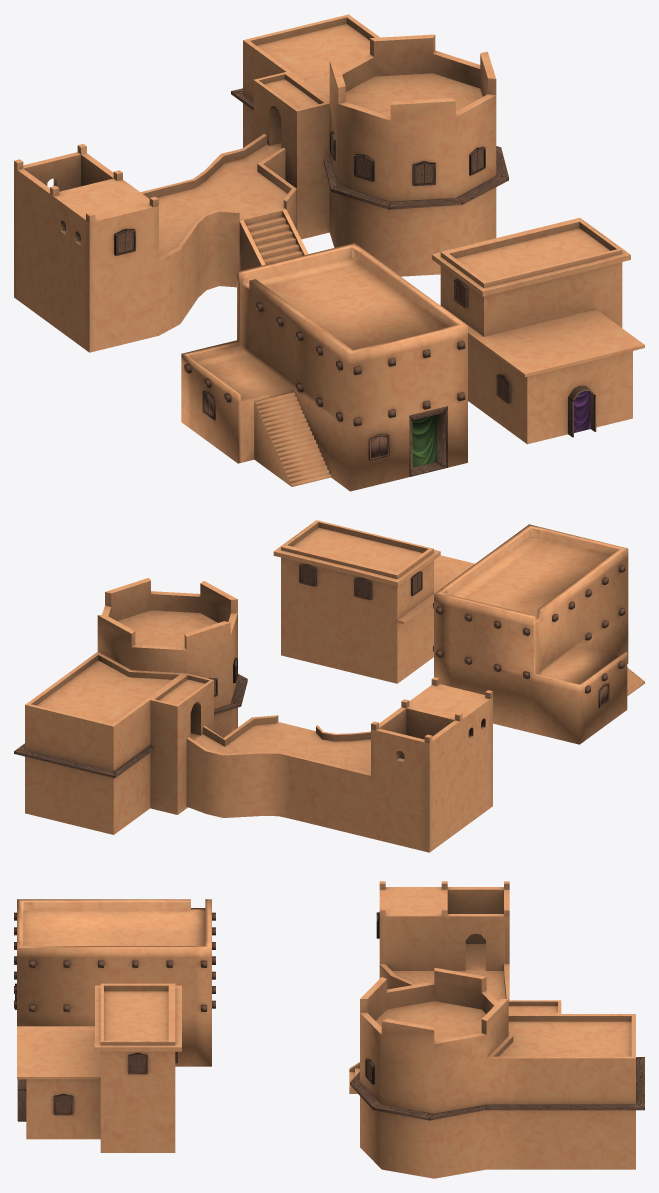
File: desert_village.glb
The picture shows the model from 3 angles, top to bottom: view 1: azimuth 30°, elevation 25°; view 2: azimuth 150°, elevation 25°; view 3: azimuth 270°, elevation 25°; orthographic projection. The views are drawn at different scales.
Visible parts, largest first — view 1: casa02_2, casa01_5, casa03_0; view 2: casa02_2, casa01_5, casa03_0; view 3: casa02_2, casa03_0, casa01_5.
Boxes of the visible parts, x1,y1,x2,y2 form: casa02_2: [14, 14, 508, 352]; casa01_5: [181, 243, 467, 491]; casa03_0: [432, 217, 644, 444]; casa02_2: [14, 578, 492, 852]; casa01_5: [433, 524, 644, 744]; casa03_0: [273, 520, 474, 683]; casa02_2: [349, 881, 644, 1178]; casa03_0: [17, 983, 181, 1152]; casa01_5: [14, 899, 215, 1066].
Size of the model in its own units: 20.12 by 7.41 by 28.4.
2 materials, 2 textured.
